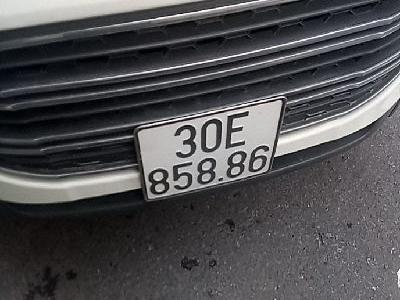car: (132, 97, 289, 202)
